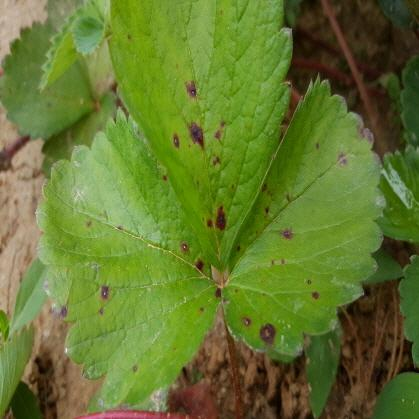Leaf Spot: (33, 104, 219, 409), (105, 0, 293, 272), (220, 70, 387, 363), (0, 17, 98, 141)
